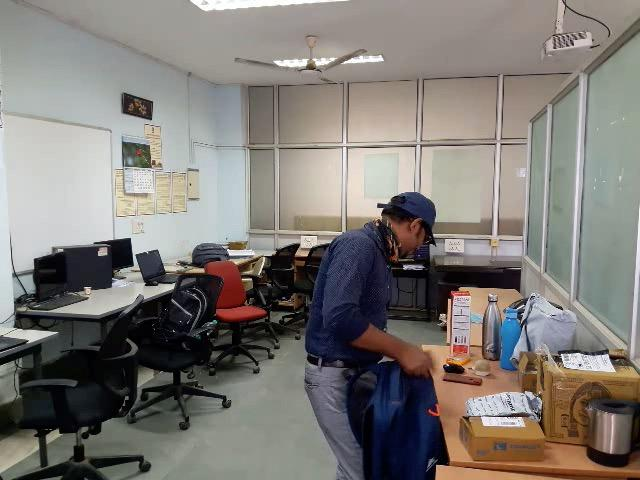shoplifting: (263, 283, 501, 480)
